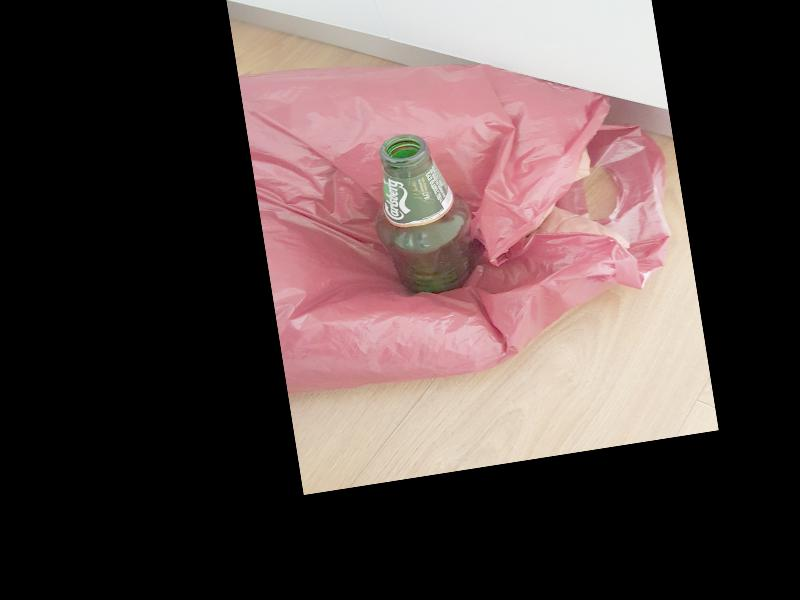Beer: (363, 128, 481, 301)
